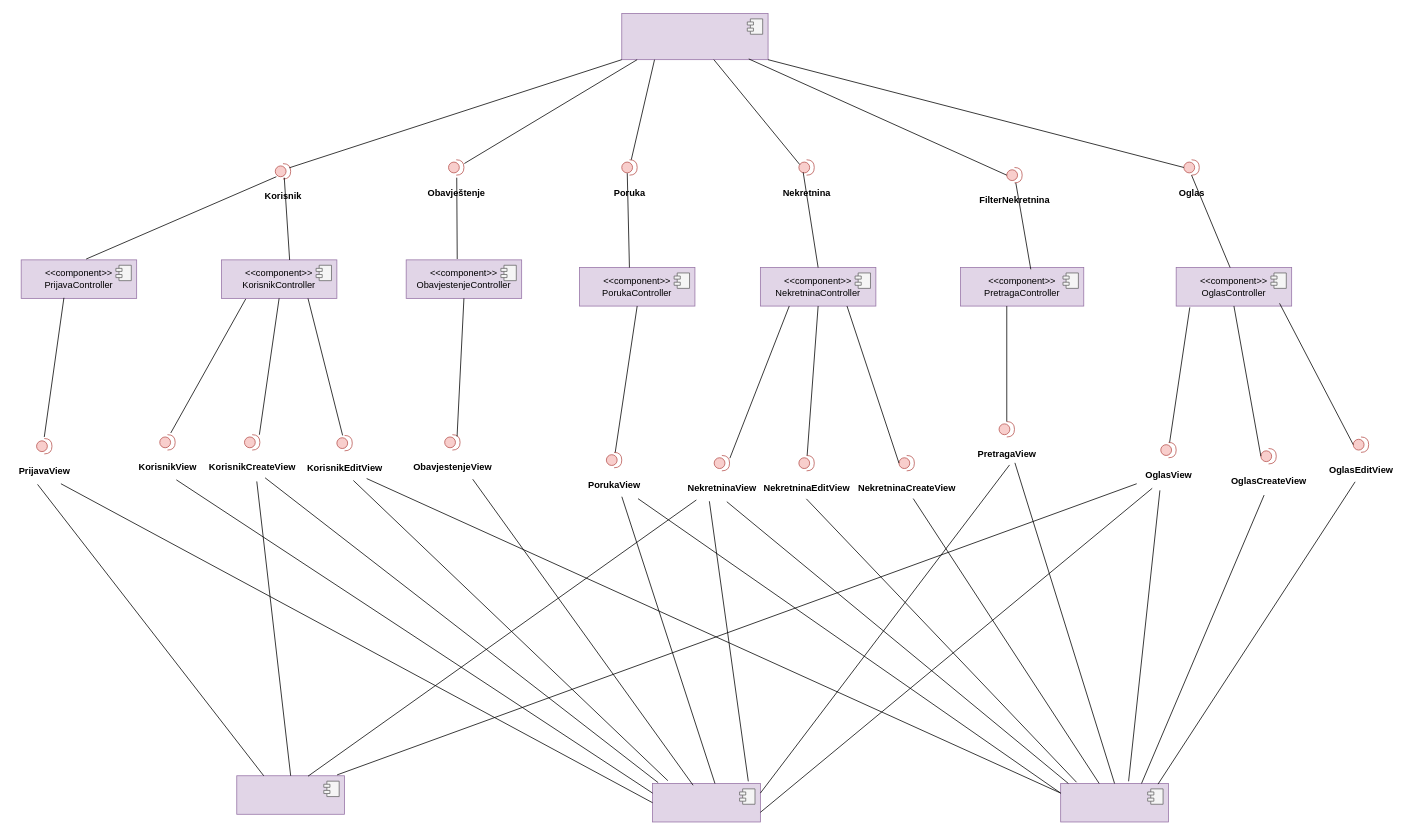
Image size: 1406x835. Some labels were removed from this diagram. Here are the shapes that lost their labels. From the top down, the centre of each, then its label:
At point (694, 36): "<<component>> EntityFramework".
At point (290, 794): "<<component>> Gost".
At point (706, 802): "<<component>> RegistrovaniKorisnik".
At point (1114, 802): "<<component>> Vlasnik/agent".
